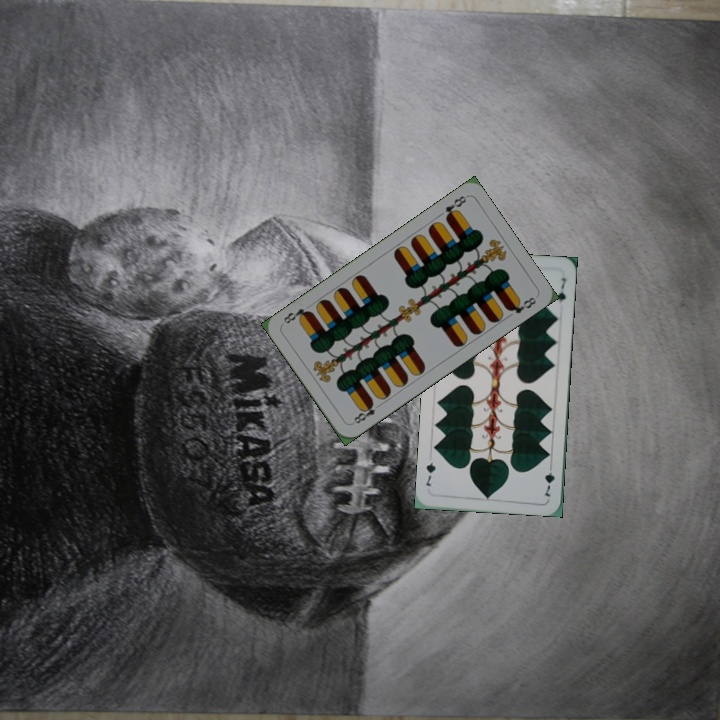E8: (348, 398, 384, 427), (441, 192, 469, 223)
G7: (541, 459, 557, 500)
